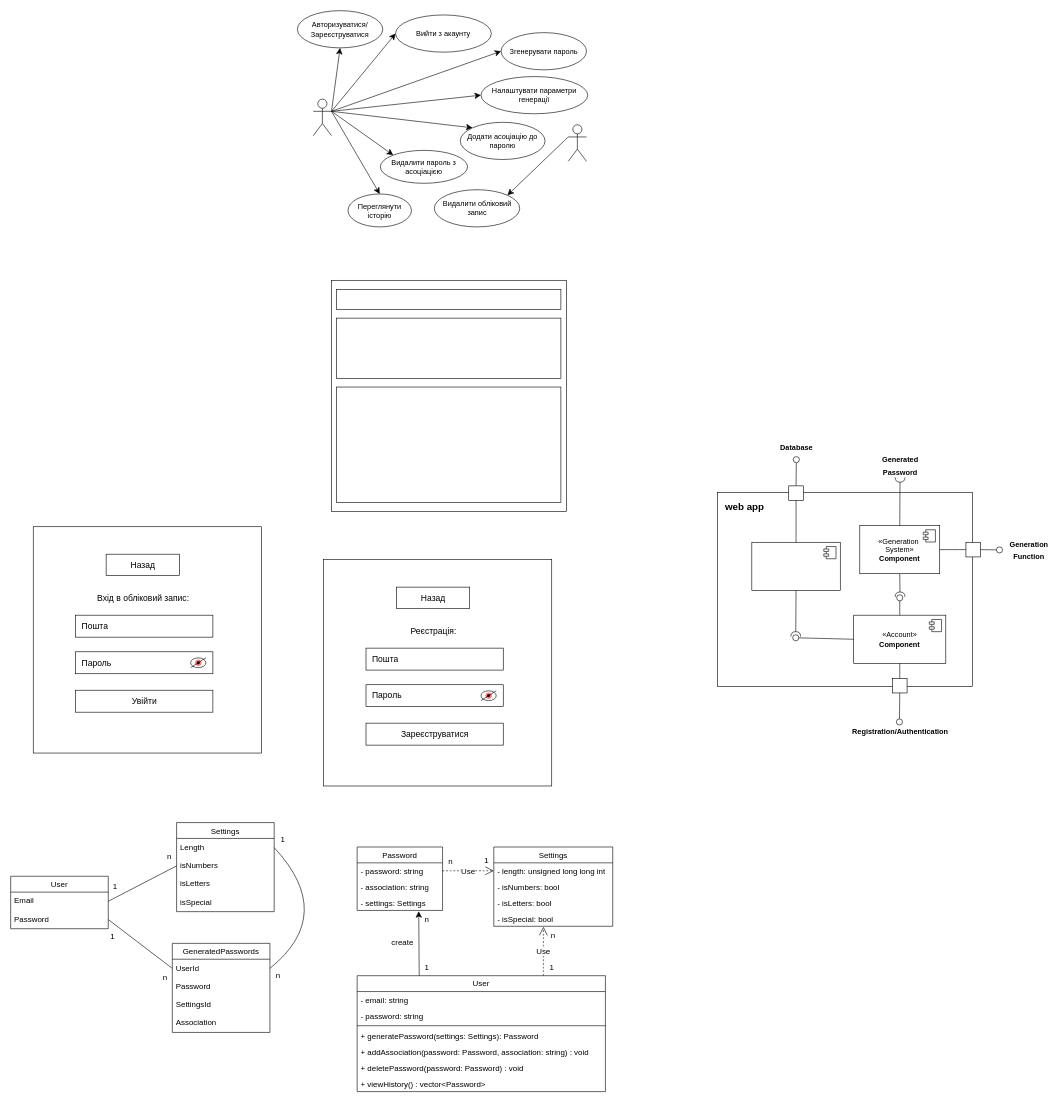
The diagram is 1064 pixels wide and 1104 high, and some of its shapes have lost their labels. The shapes that lost their labels are listed below. From the top down, each one's centre as x and y in pixels, then its label:
At (x=322, y=117): "Користувач".
At (x=577, y=142): "Адміністратор".
At (x=448, y=299): "Інформація про обліковий запис та історію паролів".
At (x=448, y=348): "Створення паролю".
At (x=448, y=444): "Налаштування генерації".
At (x=795, y=566): "«History and associations» Component".
